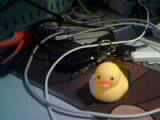duck: (86, 61, 126, 96)
